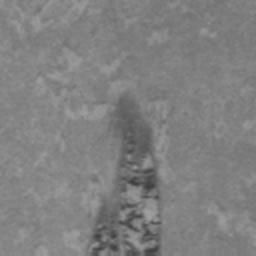Oxide scale of plate system: (88, 88, 166, 256)
